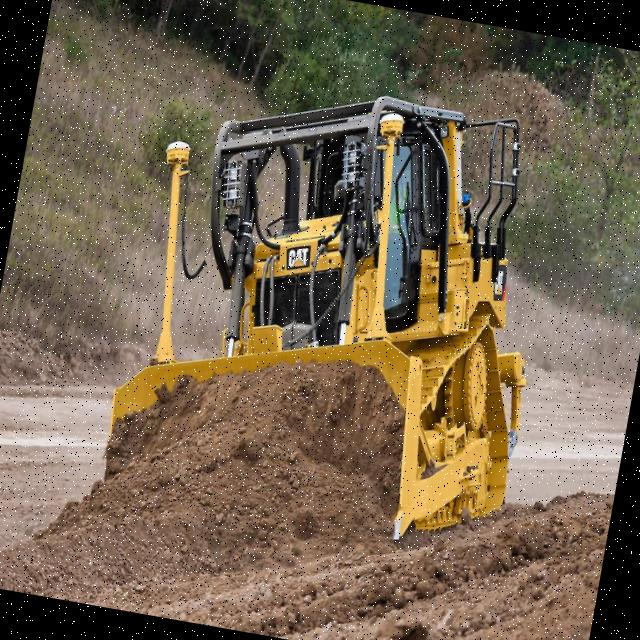Bulldozer: (76, 33, 604, 595)
